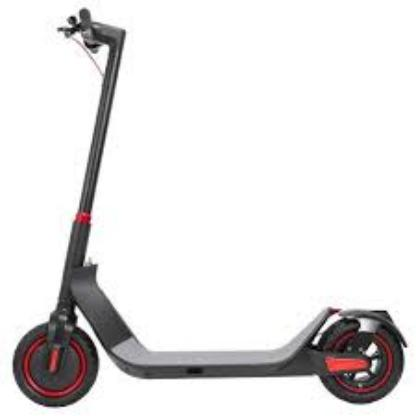bike: (11, 5, 414, 411)
car: (10, 4, 415, 411)
